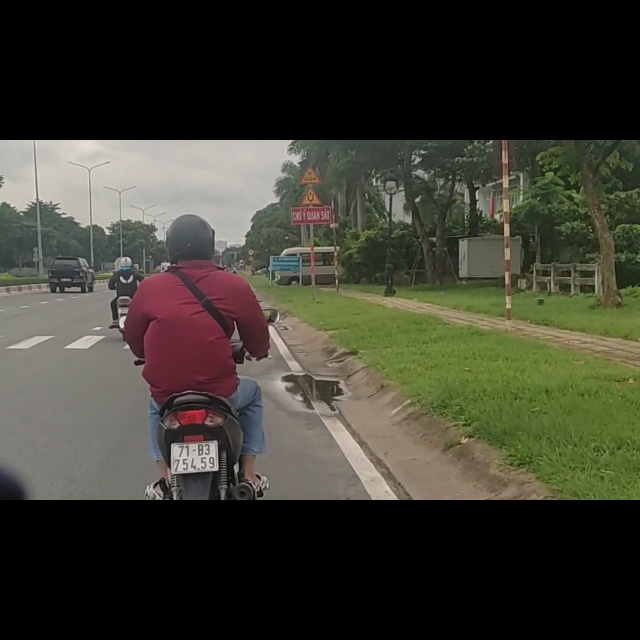bien_hieu_lenh: (300, 45, 322, 81), (301, 83, 321, 116)
